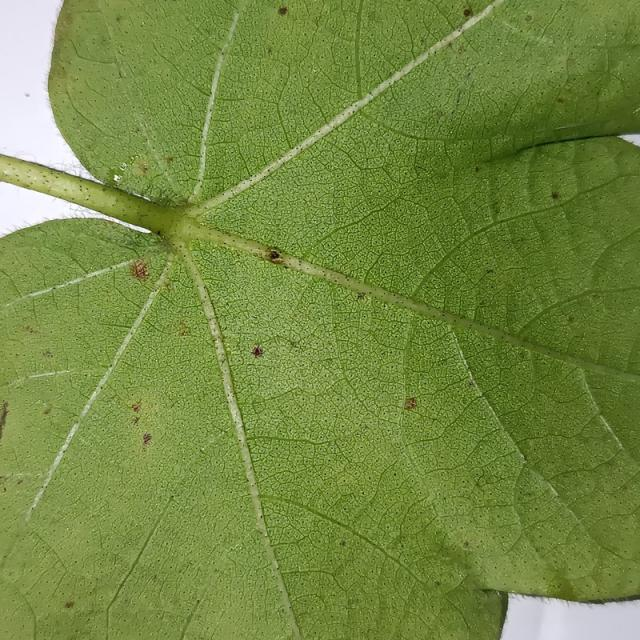Bacterial_Blight: (548, 53, 601, 127), (133, 259, 175, 294), (119, 230, 156, 254), (244, 339, 272, 367), (399, 386, 428, 413), (126, 398, 148, 424), (129, 259, 150, 281), (0, 401, 10, 445), (136, 432, 159, 447), (267, 248, 285, 264), (141, 432, 153, 452), (61, 12, 73, 28), (0, 474, 12, 489), (22, 325, 38, 335), (283, 338, 298, 348), (42, 403, 53, 416), (117, 66, 127, 79), (178, 326, 190, 336), (288, 339, 300, 349), (278, 5, 288, 16), (355, 292, 366, 302), (492, 203, 501, 215), (42, 349, 54, 358), (139, 162, 148, 173), (463, 8, 472, 17), (154, 230, 163, 238), (165, 156, 173, 164), (551, 191, 559, 199), (65, 601, 74, 608), (524, 15, 533, 22), (485, 269, 495, 275), (556, 97, 564, 104), (458, 46, 466, 53), (15, 478, 23, 485), (115, 15, 122, 23), (267, 46, 273, 55), (456, 96, 461, 106), (468, 380, 475, 387), (340, 540, 346, 547), (568, 316, 575, 322), (464, 541, 469, 548), (475, 166, 480, 173), (466, 71, 471, 78), (195, 598, 200, 604), (435, 581, 440, 586), (25, 93, 30, 98)
Cotton: (0, 0, 639, 639)
